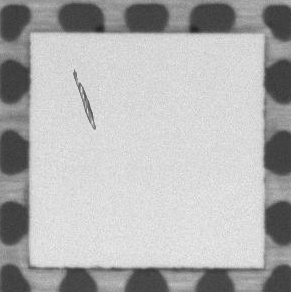DIE_INK: (71, 61, 97, 133)
